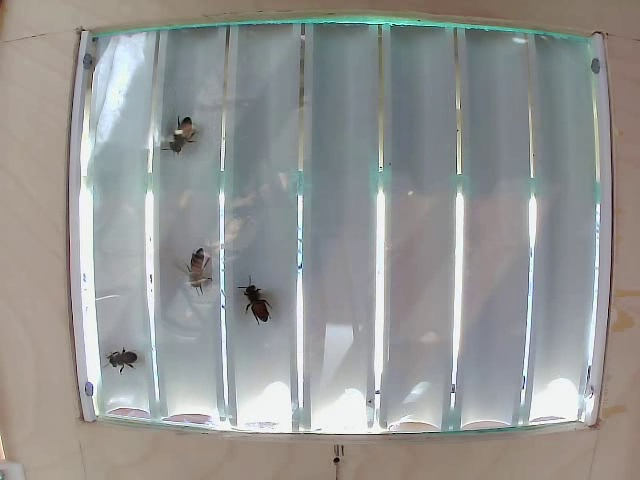bee: (155, 114, 201, 160), (234, 283, 283, 321), (103, 347, 144, 383), (187, 259, 218, 292)
